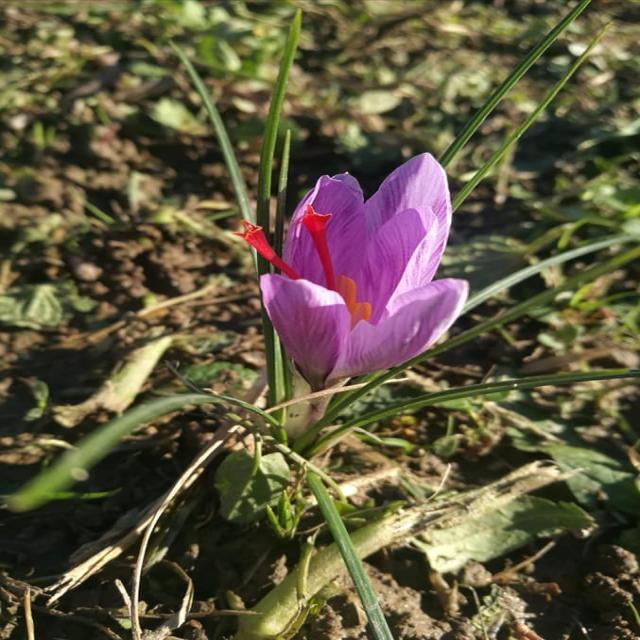saffron open: (243, 154, 468, 390)
